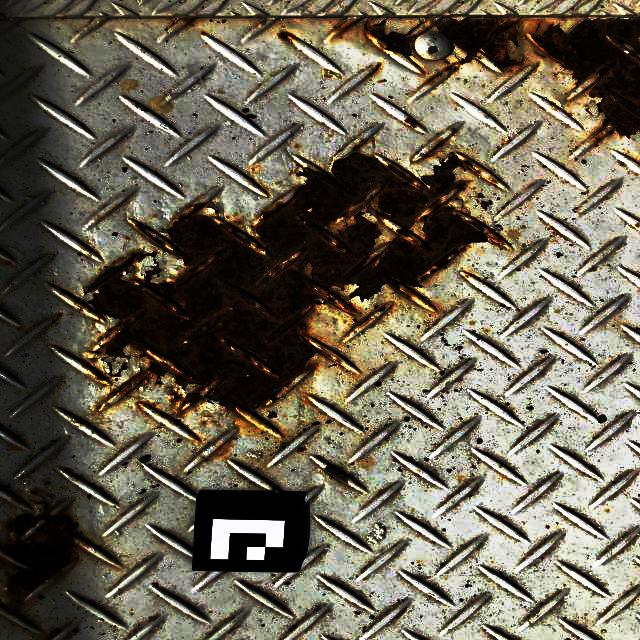Corrosion: (59, 140, 506, 434), (526, 17, 640, 145), (0, 487, 95, 609), (423, 17, 526, 72), (330, 17, 443, 59), (357, 301, 395, 328), (138, 401, 179, 425), (424, 58, 460, 85), (324, 462, 353, 485), (548, 97, 572, 118), (169, 18, 198, 28), (358, 137, 375, 148), (278, 32, 295, 42), (411, 62, 425, 74), (403, 117, 418, 128), (93, 403, 109, 413), (70, 417, 87, 426), (134, 103, 150, 112), (370, 63, 380, 76), (50, 313, 61, 324), (190, 432, 202, 441), (346, 315, 359, 323), (256, 19, 267, 28), (201, 32, 208, 36), (451, 128, 457, 132)
